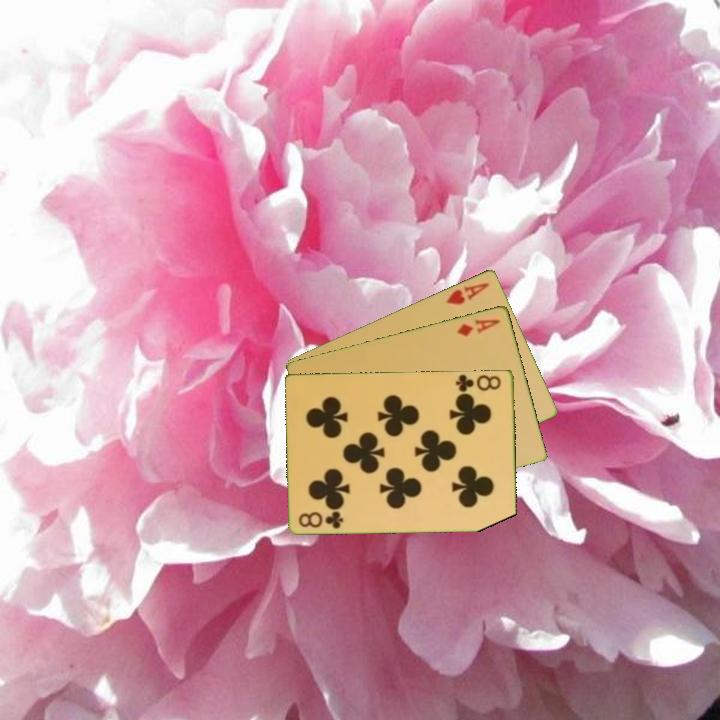8c: (452, 371, 504, 396), (296, 507, 347, 531)
Ad: (453, 315, 503, 339)
Ah: (442, 278, 492, 307)
